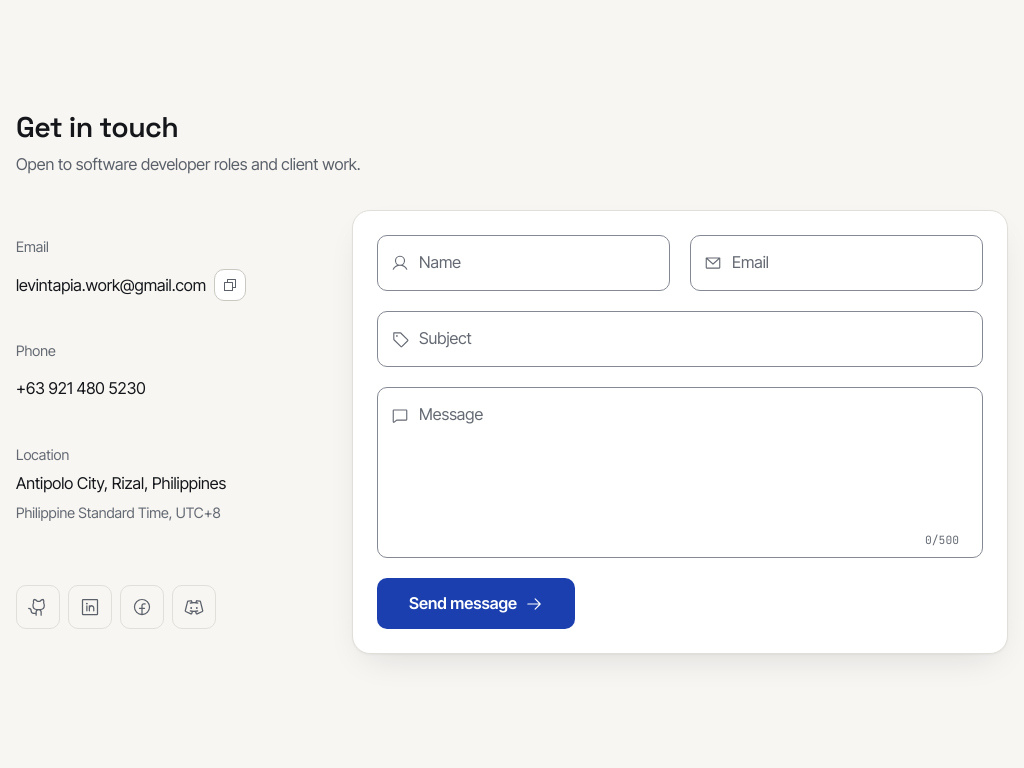
Scenario: Contact › sends a complete form, confirms it, and clears the fields
The width and height of the screenshot is (1024, 768).
Step 1. Type "Recruiter" into the field labelled "Name" → (524, 263), box [377,235,670,291]
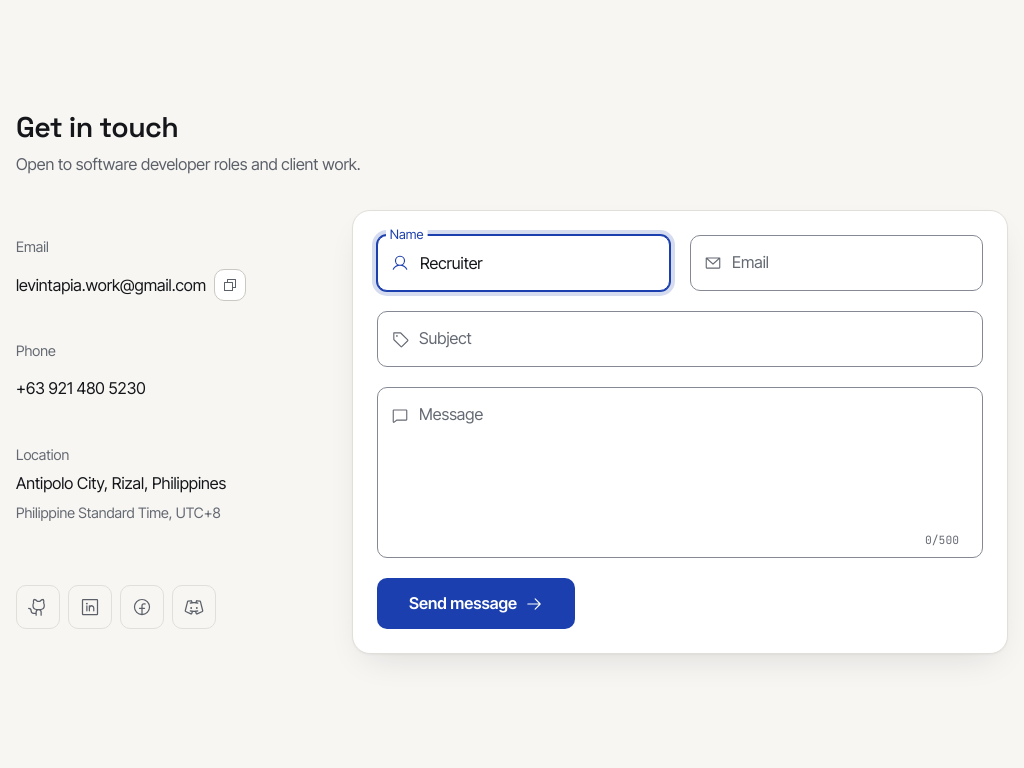
Step 2. Type "hiring@example.com" into the field labelled "Email" → (836, 263), box [690,235,983,291]
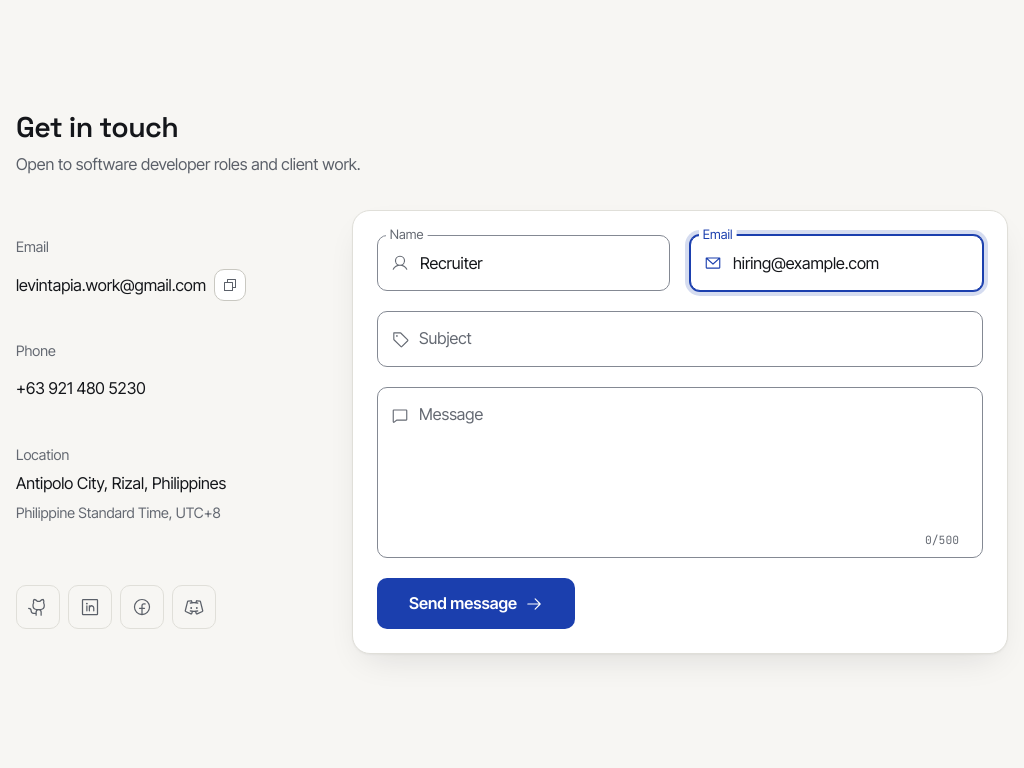
Step 3. Type "Interview" into the field labelled "Subject" → (680, 339), box [377,311,983,367]
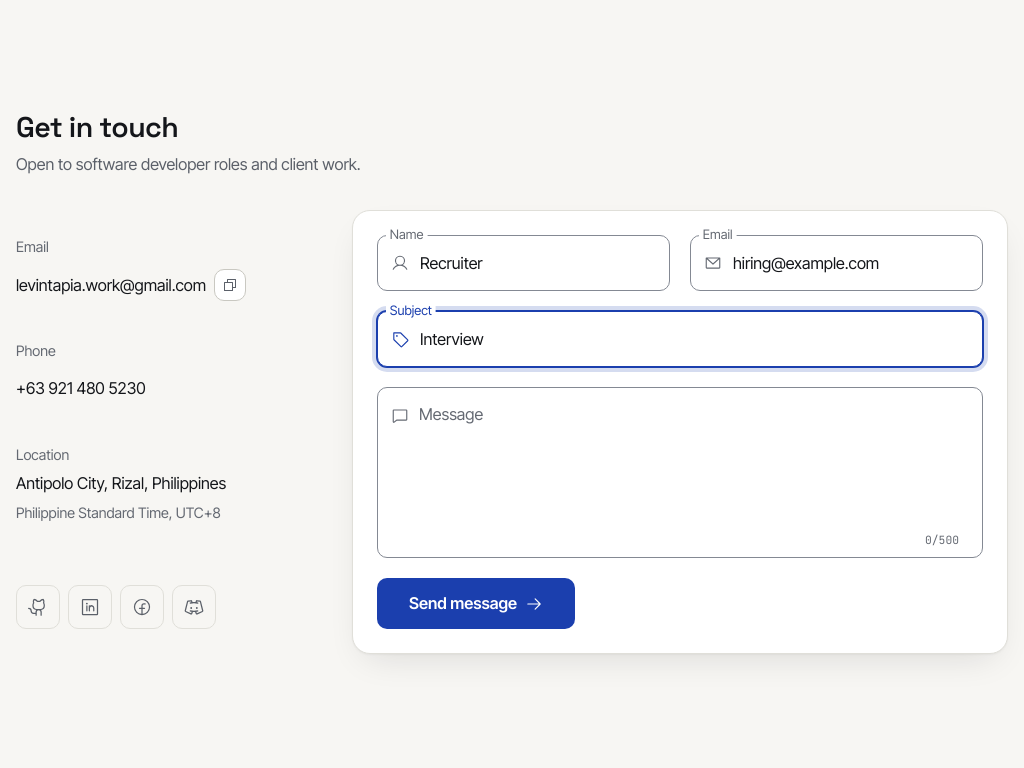
Step 4. Type "We would like to talk about a role." into the text box labelled "Message" → (680, 473), box [377,387,983,558]
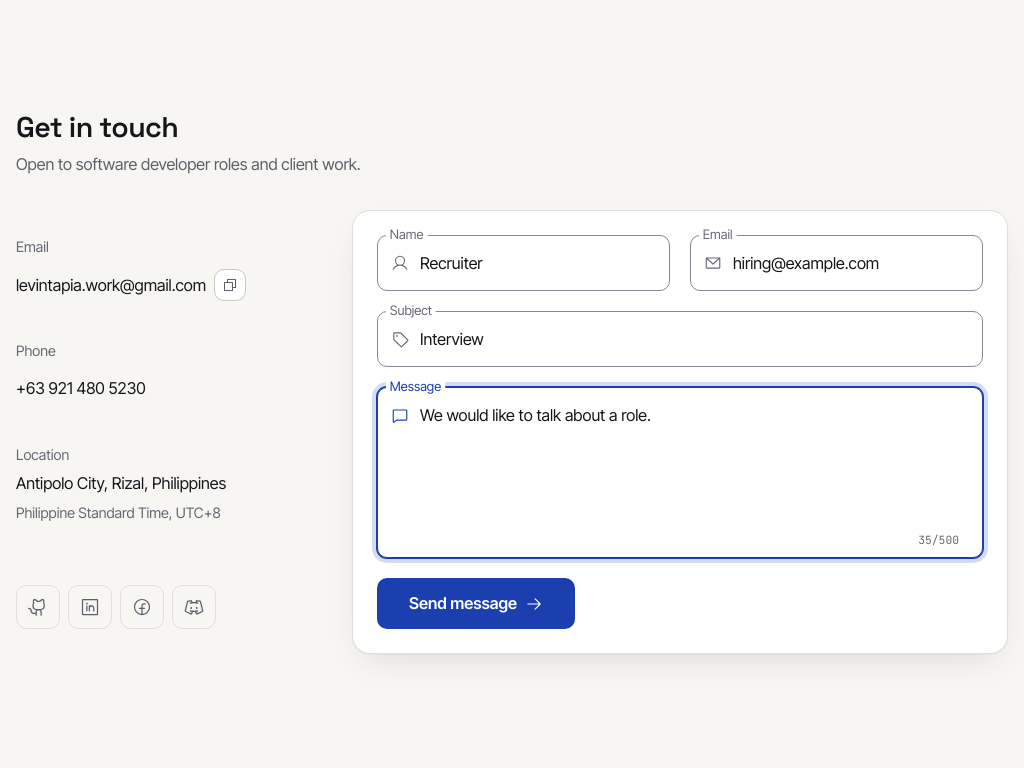
Step 5. Click the button "Send message" → (476, 604), box [377,578,575,629]
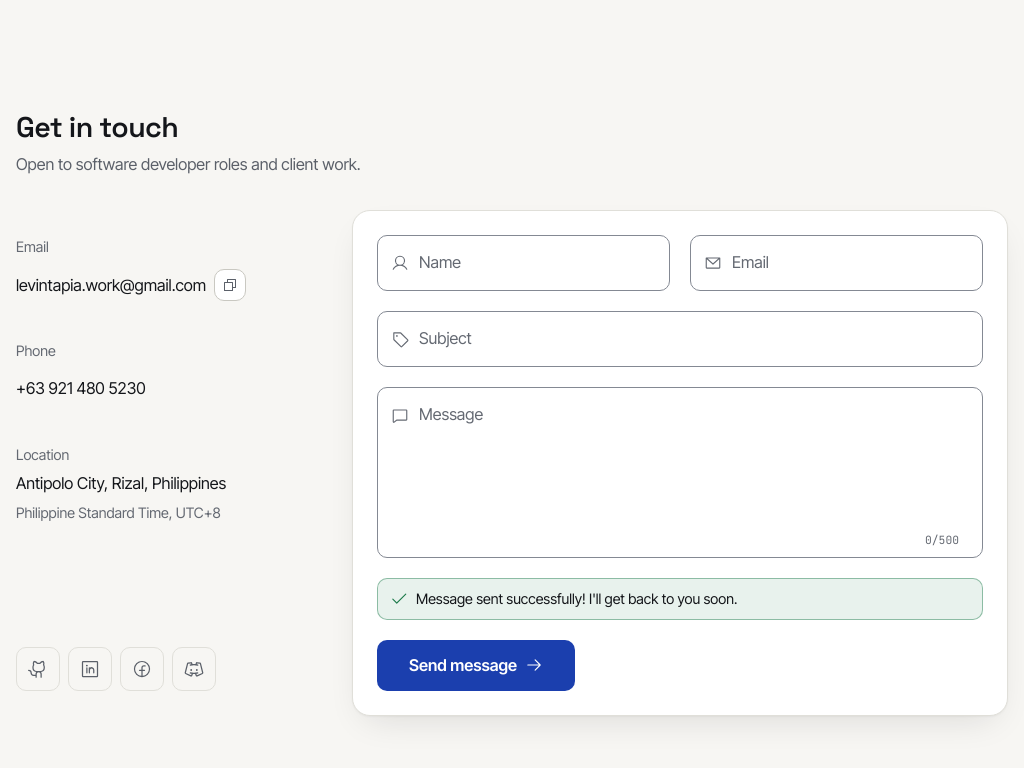
expect the text "Message sent successfully! I'll get back to you soon." is shown: met, box [416,587,737,611]
expect the field labelled "Name" is empty: met, box [377,235,670,291]
expect the text box labelled "Message" is empty: met, box [377,387,983,558]
